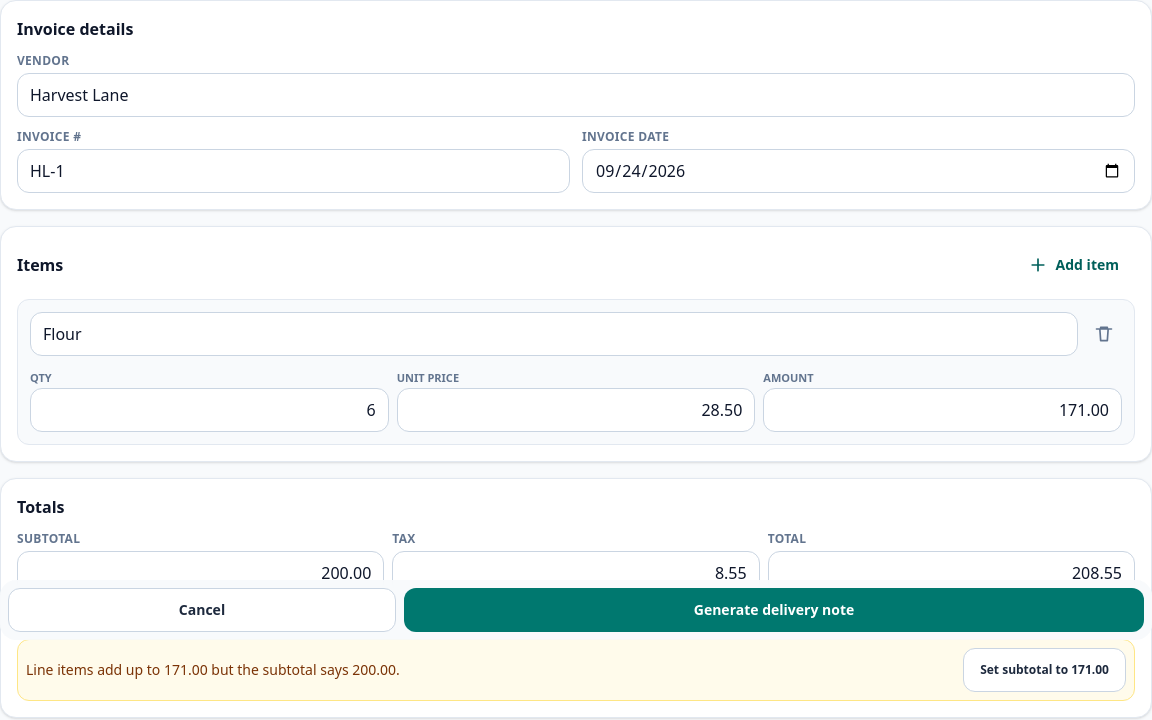
Test: ReviewForm › warns when the items do not add up to the subtotal and fixes it in one tap
Expected: the text "Line items add up to 171.00 but the subtotal says 200.00." is shown, [26,660,400,679]
Step 1. Click the button "Set subtotal to 171.00" → coordinates (1045, 670), box [963,648,1126,692]
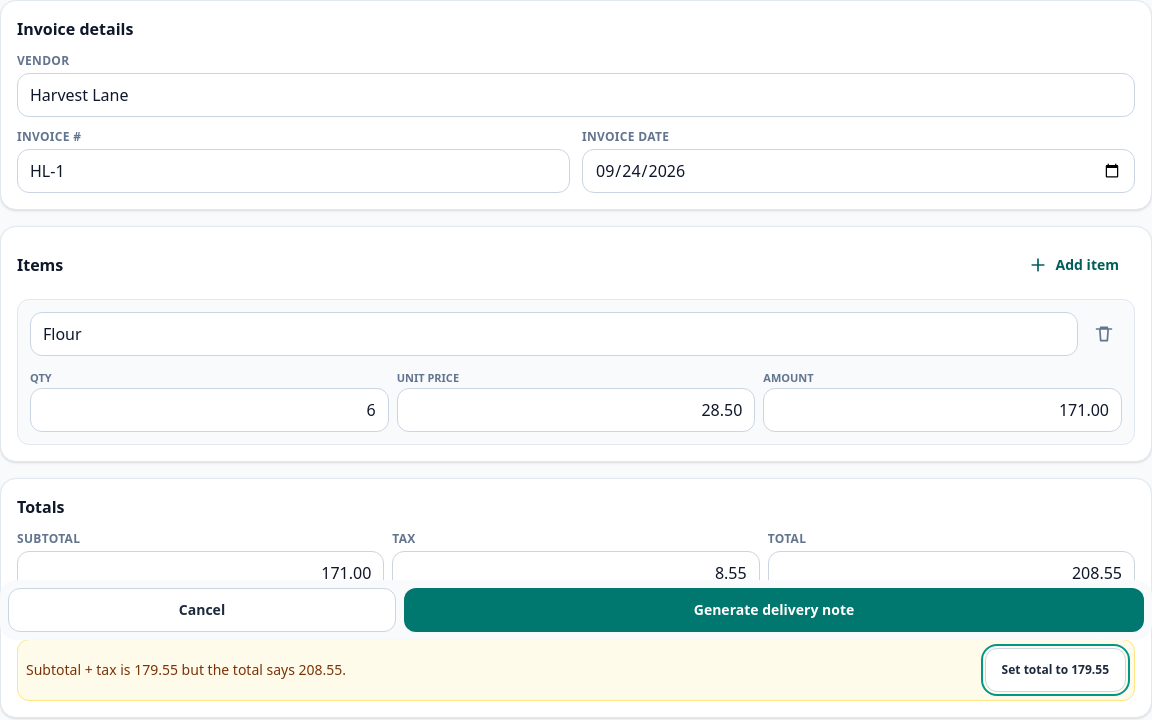
Expected: the number field labelled "Subtotal" holds "171", [17,551,384,595]
Expected: the text "Line items add up to" is gone
